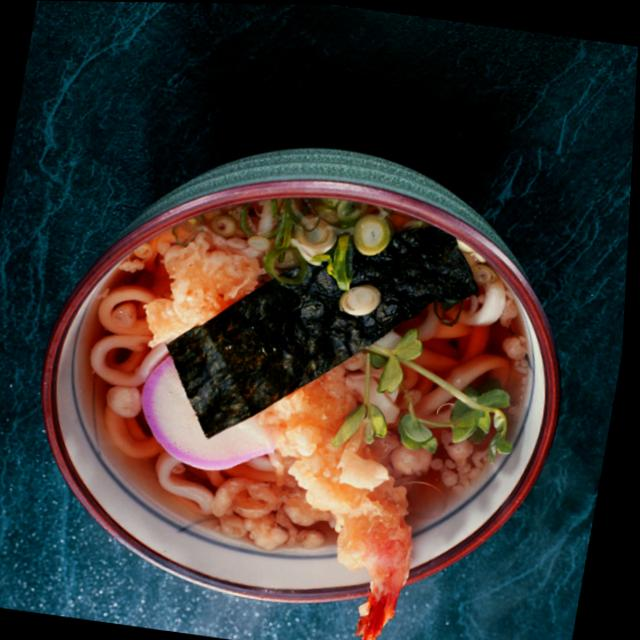面条主食: (49, 156, 571, 640)
